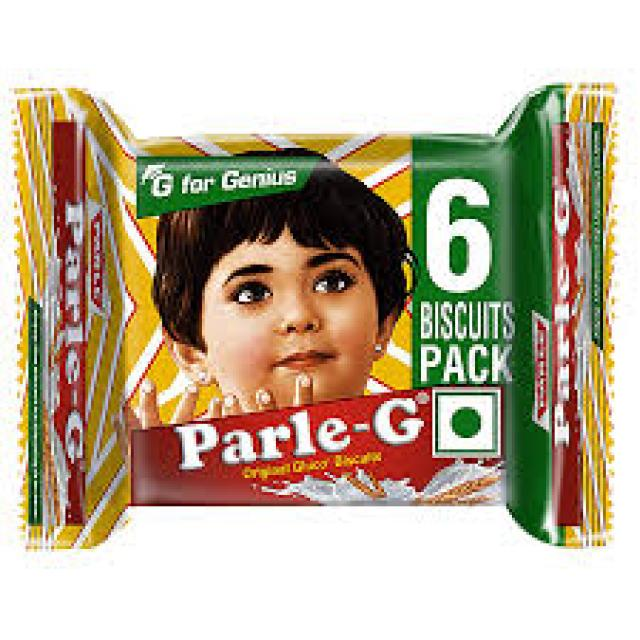parle-g: (10, 89, 616, 547)
